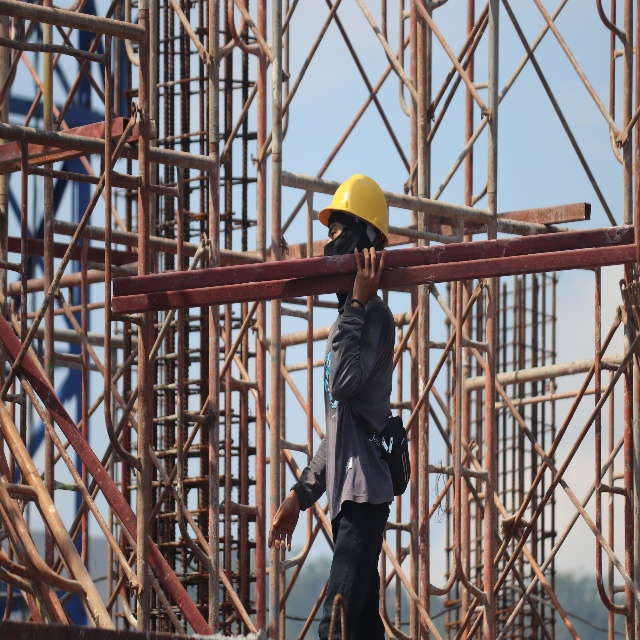Sin_guantes: (268, 493, 301, 553), (352, 247, 387, 303)
